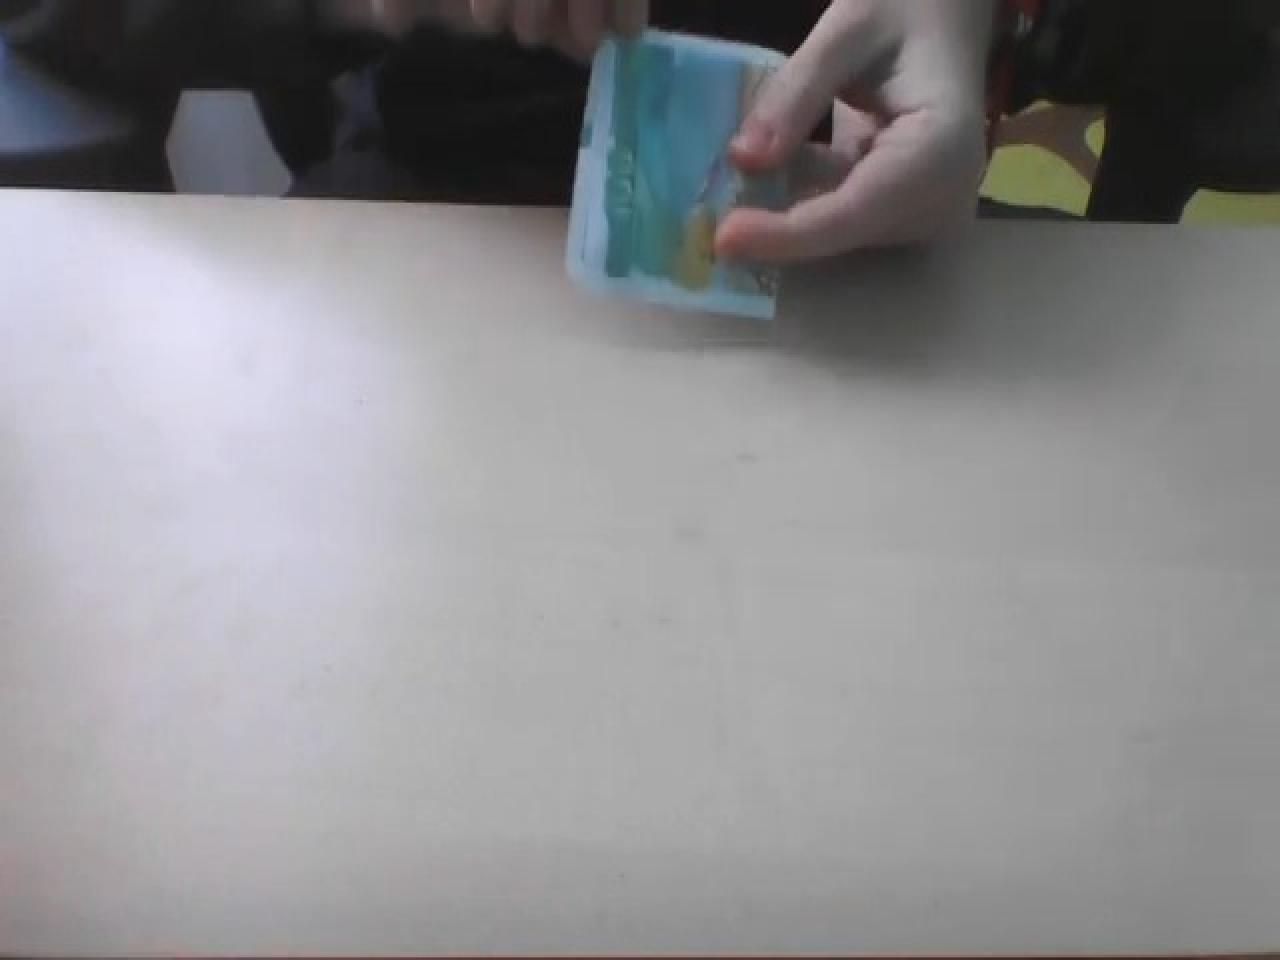100leva: (564, 32, 782, 323)
